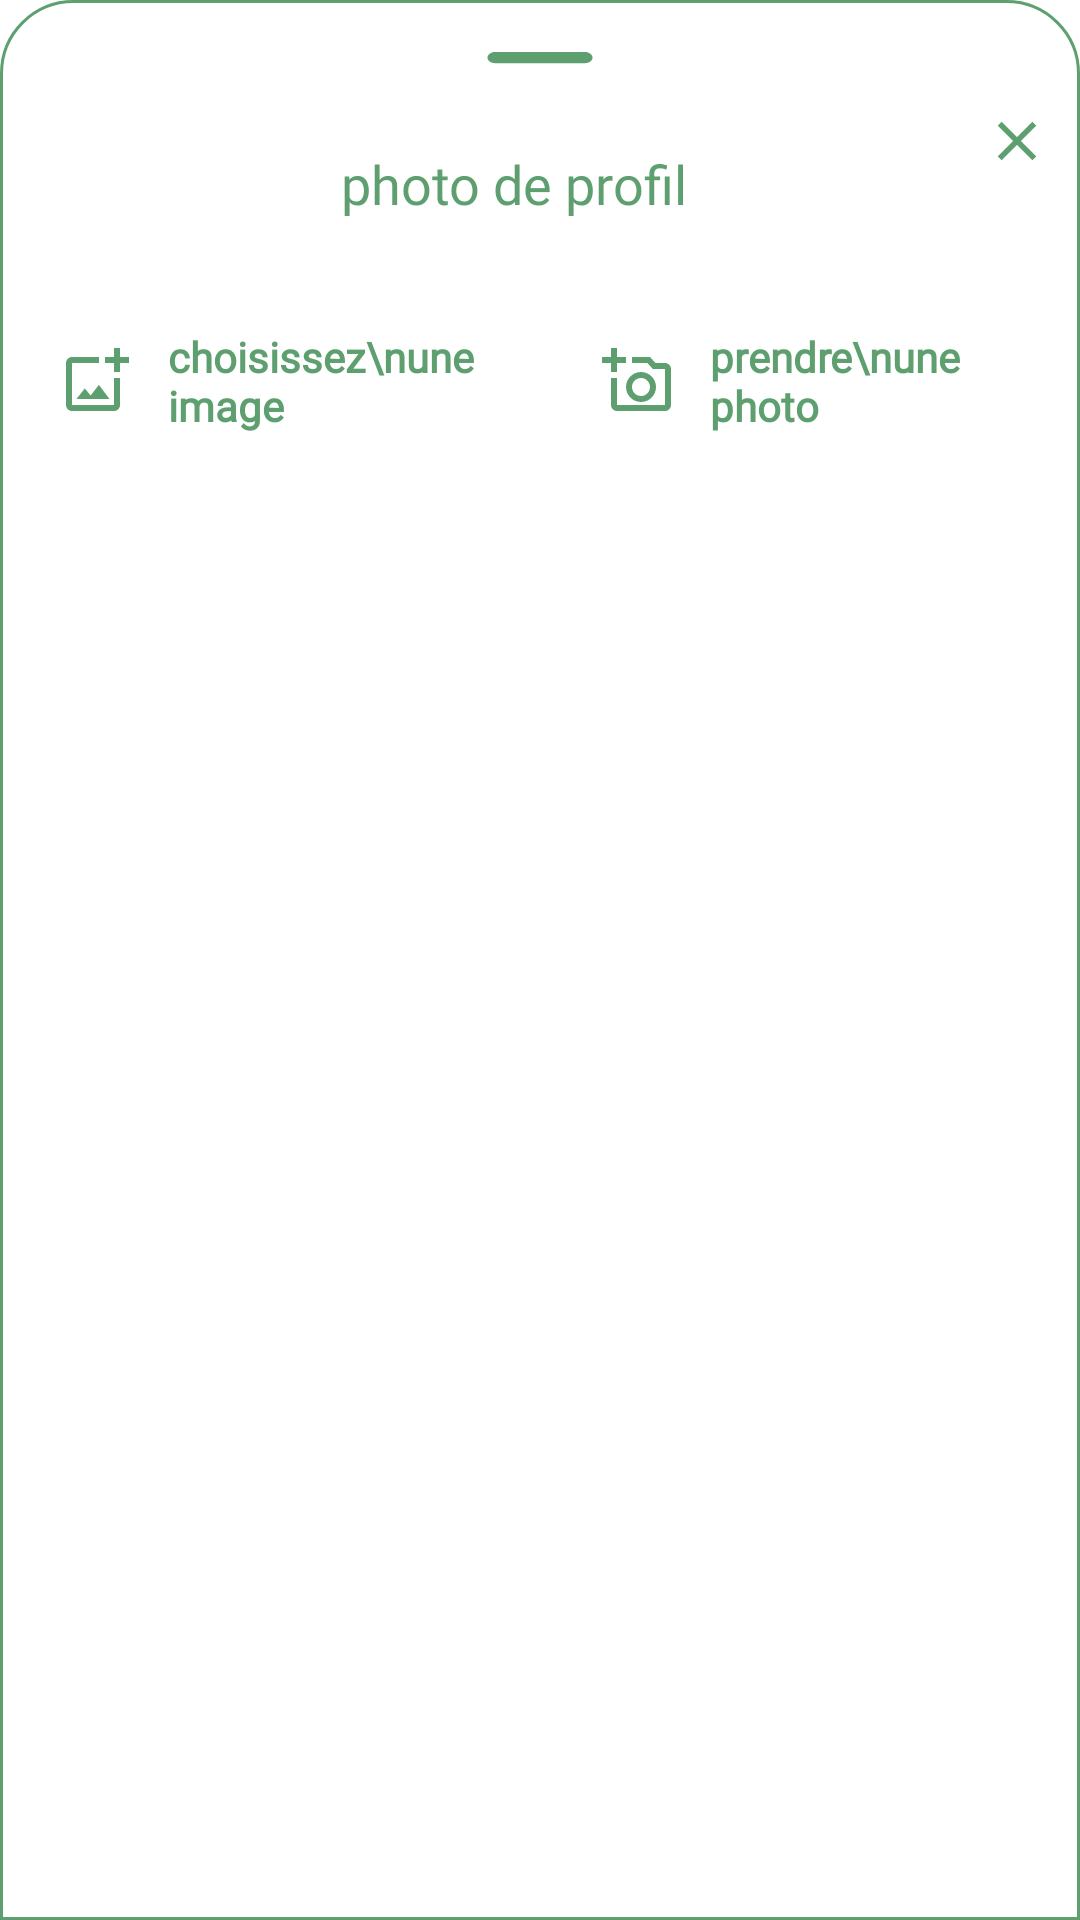

Point at icon controls on the screen. Image size 1080 x 1920, points as point (x, y).
close: point (1017, 141)
take photo: point (636, 379)
upload photo: point (97, 379)
